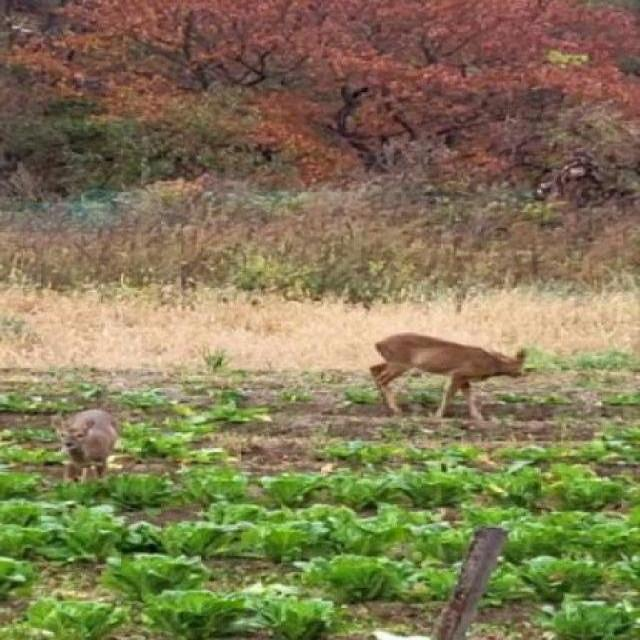deer: (368, 322, 542, 435), (47, 402, 127, 489)
